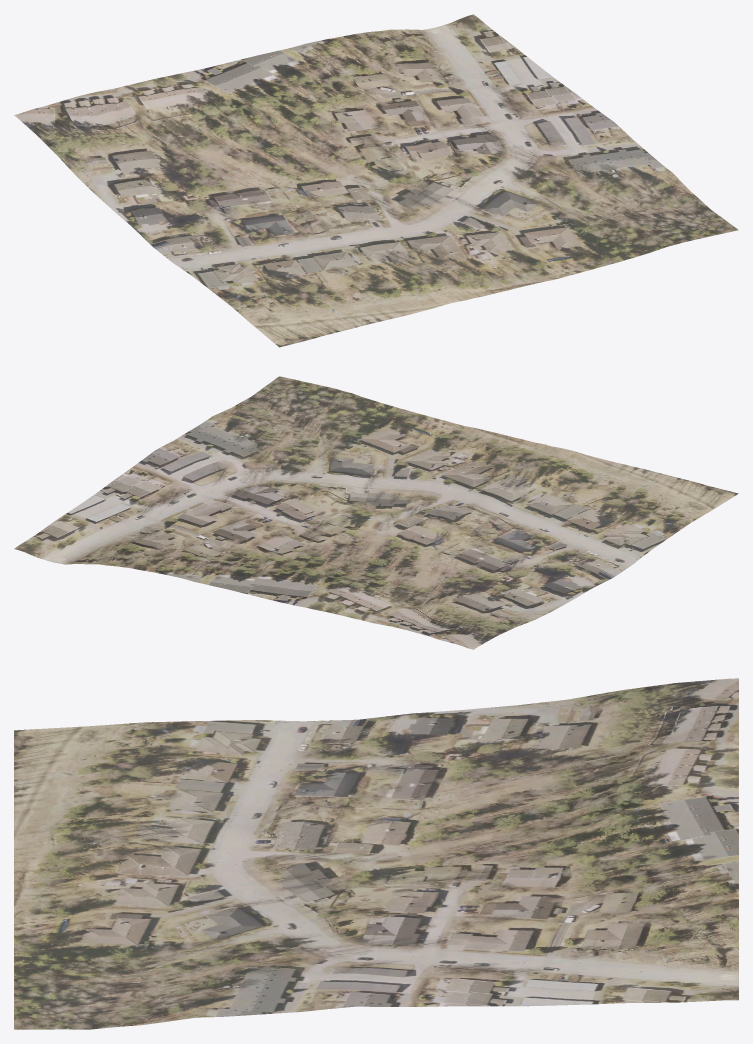
File: CM_Terrain_24492302_6814469.fbx
3 renders of one model, top to bottom at view 1: azimuth 30°, elevation 25°; view 2: azimuth 150°, elevation 25°; view 3: azimuth 270°, elevation 25°, orthographic. The views are drawn at different scales.
Parts seen in each view (by area): view 1: CM_Terrain_24492302_6814469_LOD0; view 2: CM_Terrain_24492302_6814469_LOD0; view 3: CM_Terrain_24492302_6814469_LOD0.
Part boxes in pixels (x1,y1,x2,y2): CM_Terrain_24492302_6814469_LOD0: [14, 14, 738, 347]; CM_Terrain_24492302_6814469_LOD0: [14, 376, 738, 649]; CM_Terrain_24492302_6814469_LOD0: [14, 678, 738, 1029].
Size of what is drawn, in the model's own units: 205 by 17.6 by 205.
